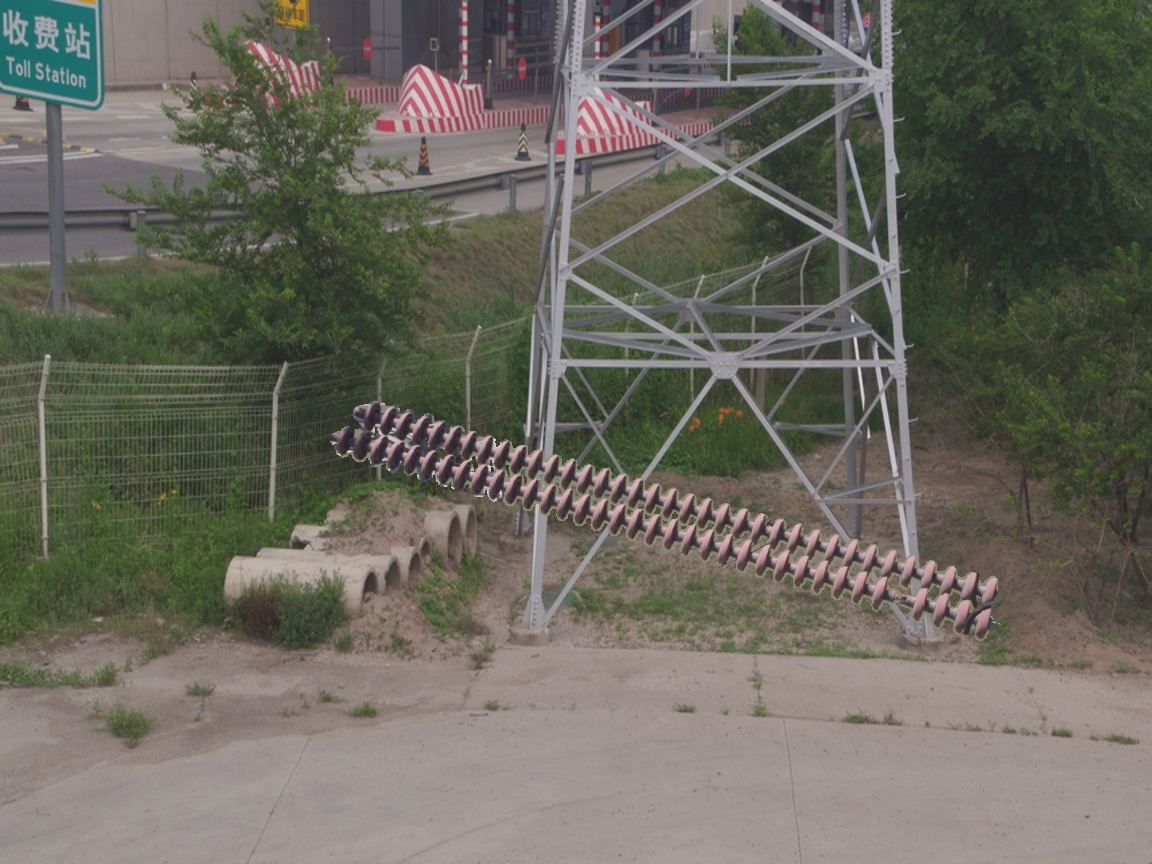defect: (866, 573, 934, 624)
